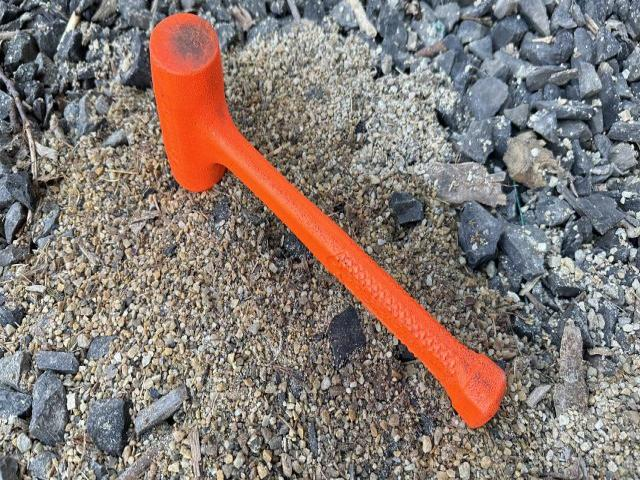hammer: (148, 12, 507, 430)
